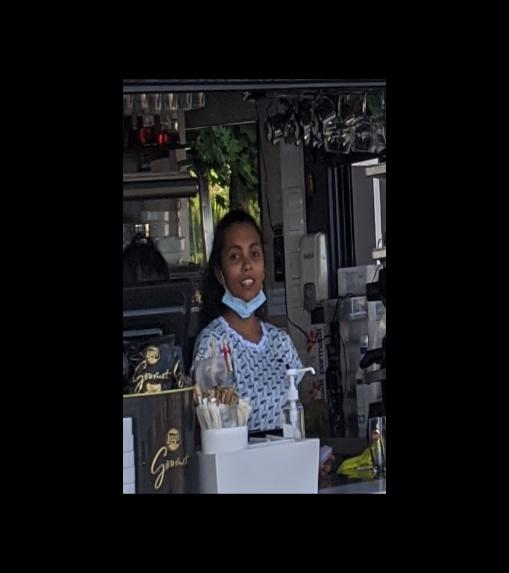mask_weared_incorrect: (225, 240, 265, 315)
